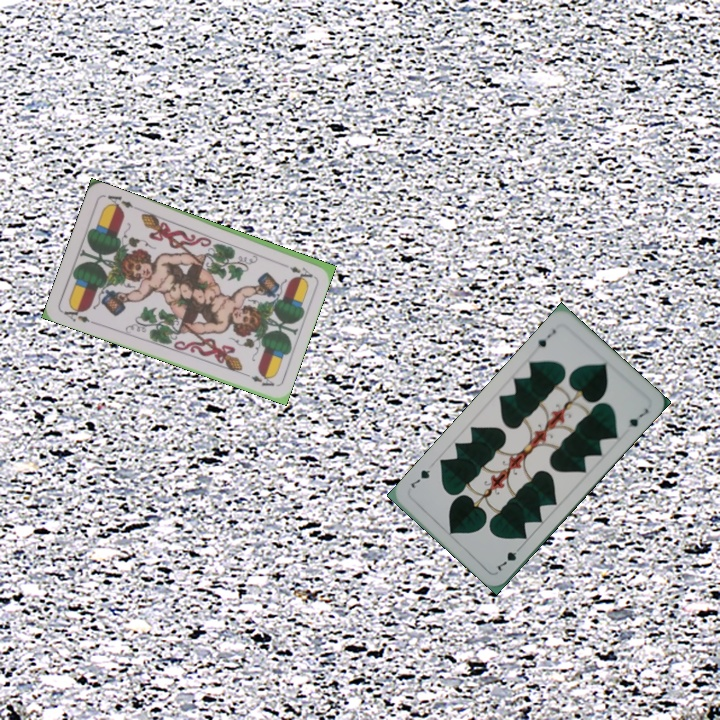EA: (60, 302, 98, 327), (276, 259, 316, 280)
G7: (493, 542, 525, 574), (534, 325, 558, 350)
